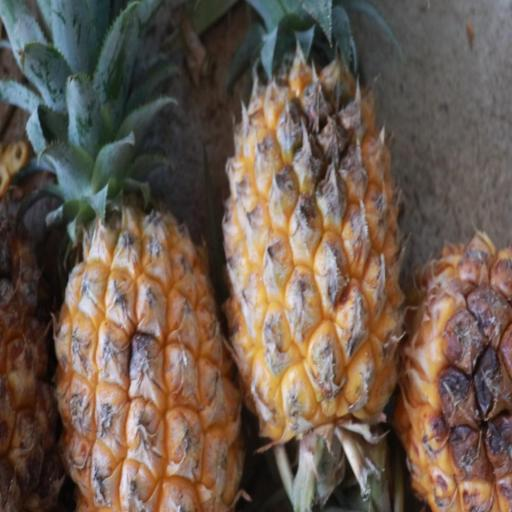Pineapple - v8 v1: (46, 0, 246, 512), (218, 0, 409, 443), (396, 235, 512, 512)
